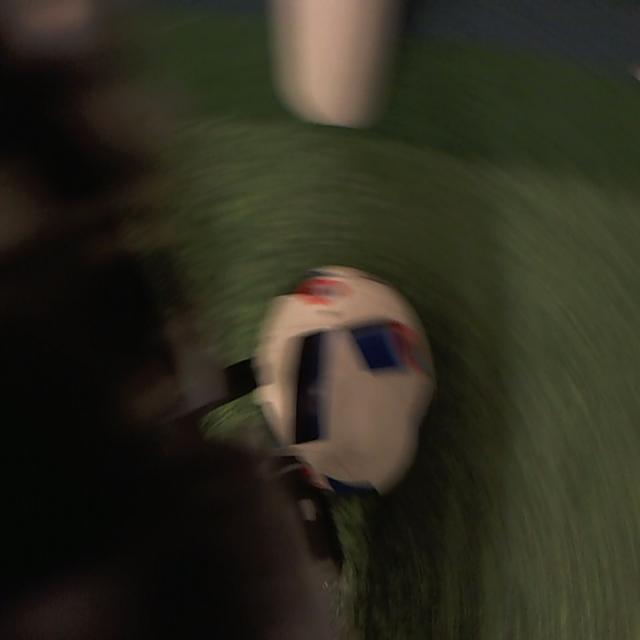ball: (252, 264, 438, 504)
goalpost: (300, 4, 386, 116)
